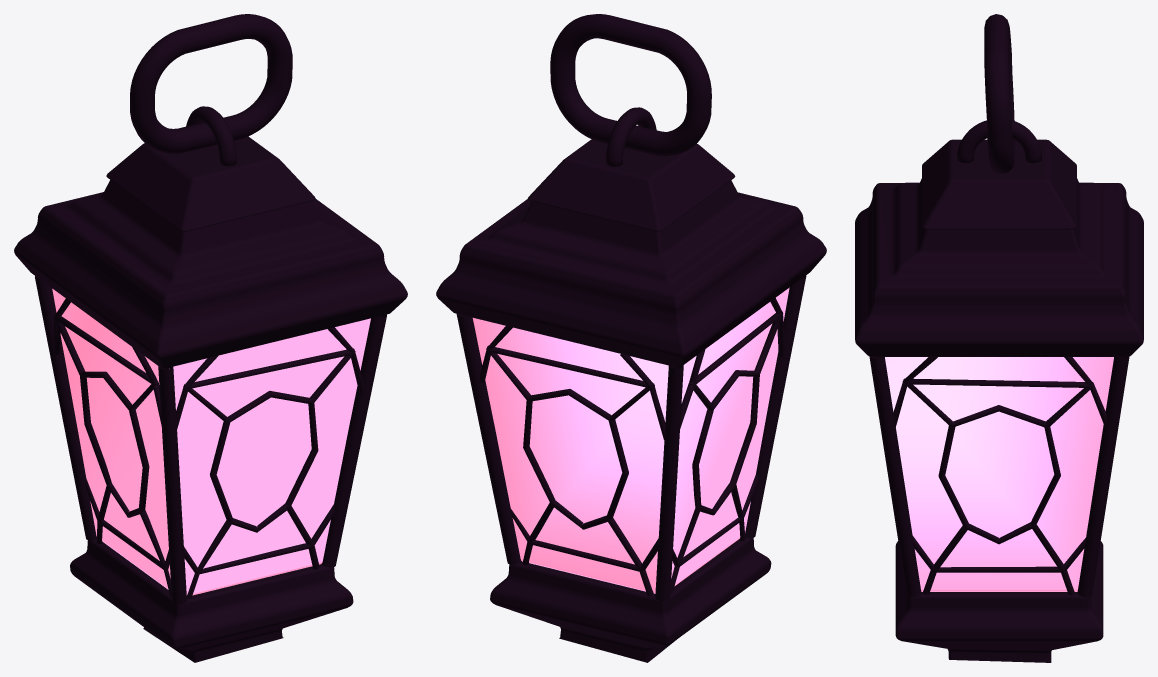
Rendered from lamp.fbx.
3 views of the same model, side by side, from view 1: azimuth 30°, elevation 25°; view 2: azimuth 150°, elevation 25°; view 3: azimuth 270°, elevation 25° (orthographic).
Visible parts, largest first — view 1: Plane; view 2: Plane; view 3: Plane.
Part boxes in pixels (x1,y1,x2,y2): Plane: (14,14,407,662); Plane: (436,14,826,662); Plane: (855,14,1143,662).
Bounding box in the file's own units: 338 × 790 × 338.
